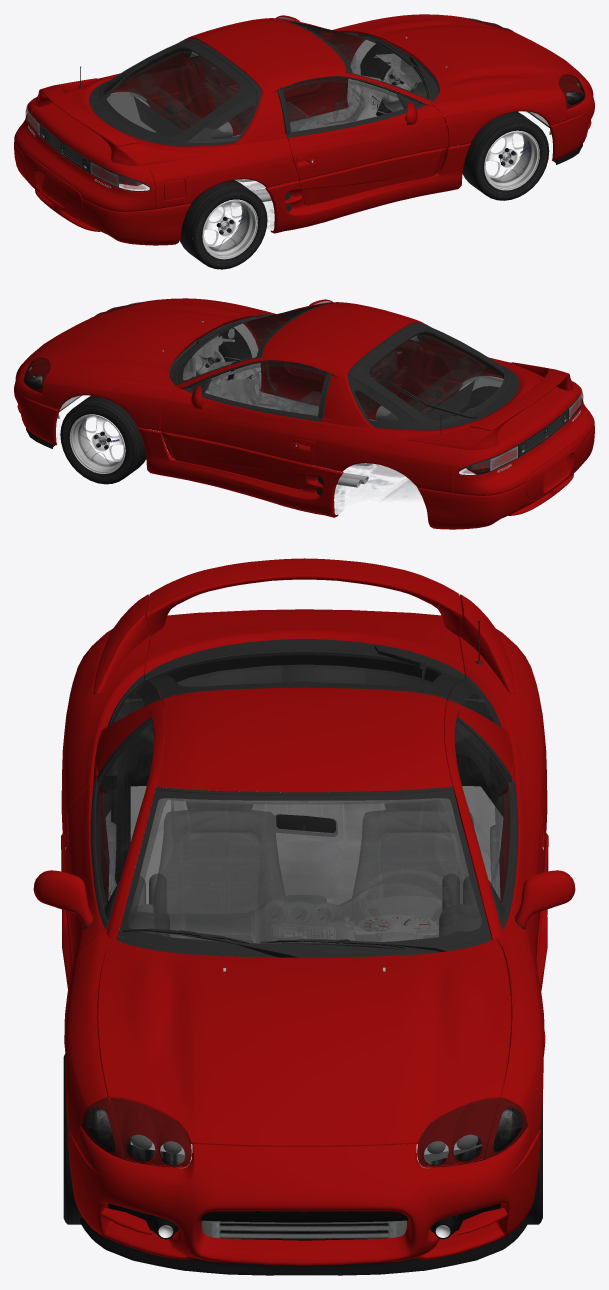
The model's file is mitsubishi-3000gt.glb.
3 views of the same model, one above another, from view 1: azimuth 30°, elevation 25°; view 2: azimuth 150°, elevation 25°; view 3: azimuth 270°, elevation 25° (orthographic). The views are drawn at different scales.
Parts seen in each view (by area): view 1: Object_14, Object_13, Object_17, Object_15, Object_18, Object_20, Object_11, Object_19, Object_12, Object_4, Object_10, Object_8 (+2 smaller); view 2: Object_14, Object_13, Object_17, Object_18, Object_11, Object_20, Object_19, Object_12, Object_15, Object_10, Object_4, Object_6 (+3 smaller); view 3: Object_13, Object_14, Object_17, Object_18, Object_12, Object_11, Object_5, Object_9, Object_15, Object_20, Object_16, Object_4.
Boxes of the visible parts, x1,y1,x2,y2 form: Object_14: (27, 14, 584, 233); Object_13: (14, 15, 594, 245); Object_17: (104, 17, 584, 138); Object_15: (287, 102, 448, 205); Object_18: (26, 20, 439, 211); Object_20: (180, 44, 549, 269); Object_11: (107, 29, 400, 181); Object_19: (202, 67, 539, 259); Object_12: (139, 62, 308, 182); Object_4: (90, 97, 183, 185); Object_10: (25, 92, 579, 190); Object_8: (27, 37, 447, 186); Object_14: (24, 298, 581, 517); Object_13: (14, 299, 594, 529); Object_17: (24, 301, 504, 422); Object_18: (169, 304, 582, 495); Object_11: (207, 312, 503, 466); Object_20: (60, 327, 498, 484); Object_19: (69, 352, 472, 473); Object_12: (300, 352, 469, 466); Object_15: (273, 299, 429, 395); Object_10: (29, 376, 583, 474); Object_4: (425, 381, 518, 469); Object_6: (335, 463, 418, 513); Object_13: (68, 558, 540, 1265); Object_14: (61, 594, 575, 1167); Object_17: (81, 652, 527, 1166); Object_18: (83, 620, 525, 957); Object_12: (153, 800, 473, 939); Object_11: (99, 664, 509, 943); Object_5: (87, 693, 521, 1240); Object_9: (80, 1203, 528, 1275); Object_15: (33, 782, 111, 975); Object_20: (63, 776, 542, 1224); Object_16: (127, 874, 481, 1153); Object_4: (177, 664, 431, 686).
Size of the model in its own units: 18.69 by 5.33 by 8.41.
Materials: 17 (9 with a texture image).
